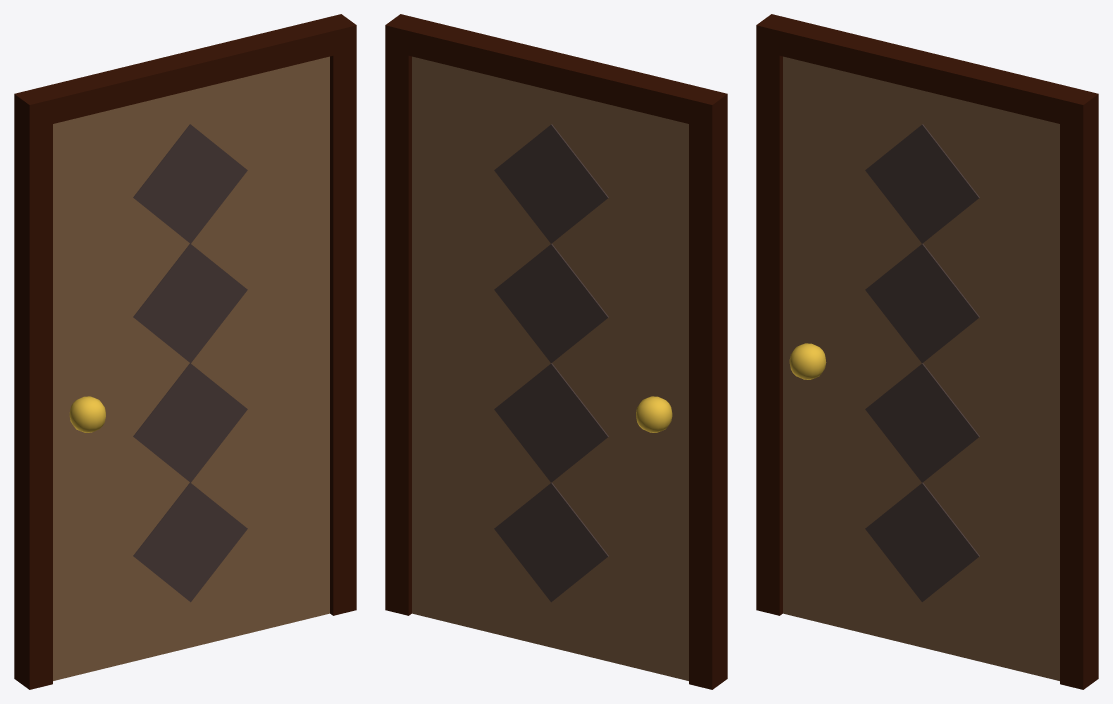
The model's file is Door.fbx.
The picture shows the model from 3 angles, left to right: view 1: azimuth 30°, elevation 25°; view 2: azimuth 150°, elevation 25°; view 3: azimuth 330°, elevation 25°; orthographic projection.
Visible parts, largest first — view 1: Cube, Cube.002, Cube.001; view 2: Cube, Cube.002, Cube.001; view 3: Cube, Cube.002, Cube.001.
Part boxes in pixels (left/top/right/bottom): Cube: left=14, top=14, right=356, bottom=689; Cube.002: left=133, top=124, right=247, bottom=602; Cube.001: left=69, top=396, right=105, bottom=432; Cube: left=385, top=14, right=727, bottom=689; Cube.002: left=494, top=124, right=608, bottom=602; Cube.001: left=636, top=396, right=672, bottom=432; Cube: left=756, top=14, right=1098, bottom=689; Cube.002: left=865, top=124, right=979, bottom=601; Cube.001: left=789, top=343, right=826, bottom=379.
Bounding box in the file's own units: 0.7166 × 3.37 × 5.76.
